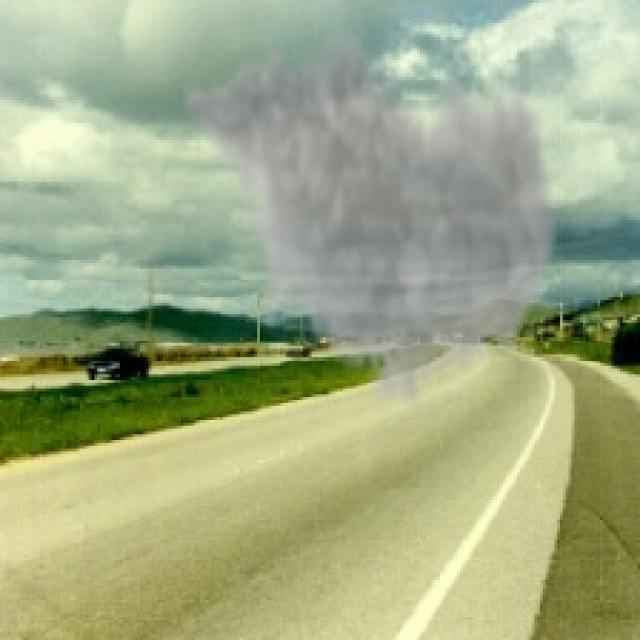Smoke: (177, 20, 563, 420)
